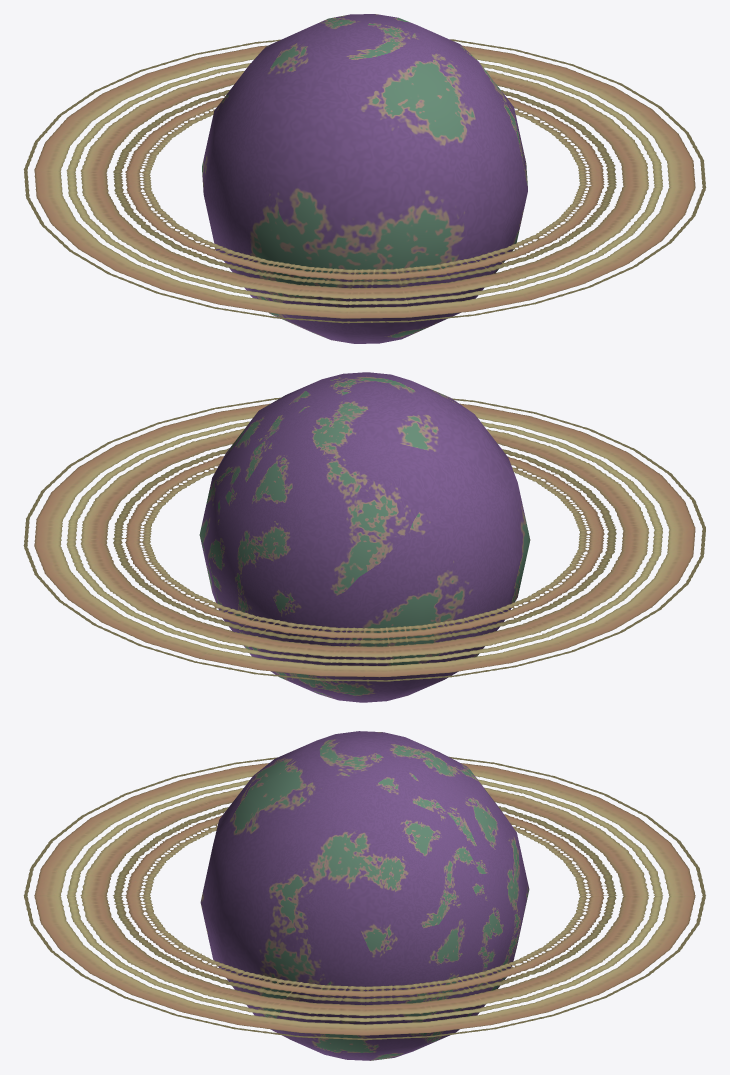
File: ringPlanet.glb
3 renders of one model, top to bottom at view 1: azimuth 30°, elevation 25°; view 2: azimuth 150°, elevation 25°; view 3: azimuth 270°, elevation 25°, orthographic.
Visible parts, largest first — view 1: Planet, Rings; view 2: Planet, Rings; view 3: Planet, Rings.
Part boxes in pixels (bbox=[...]): Planet: bbox=[202, 14, 527, 343]; Rings: bbox=[23, 39, 706, 323]; Planet: bbox=[199, 372, 530, 702]; Rings: bbox=[23, 397, 705, 681]; Planet: bbox=[200, 731, 529, 1060]; Rings: bbox=[23, 756, 705, 1040].
Bounding box in the file's own units: 5.46 × 2.57 × 5.46.
Materials: 2 (2 with a texture image).
